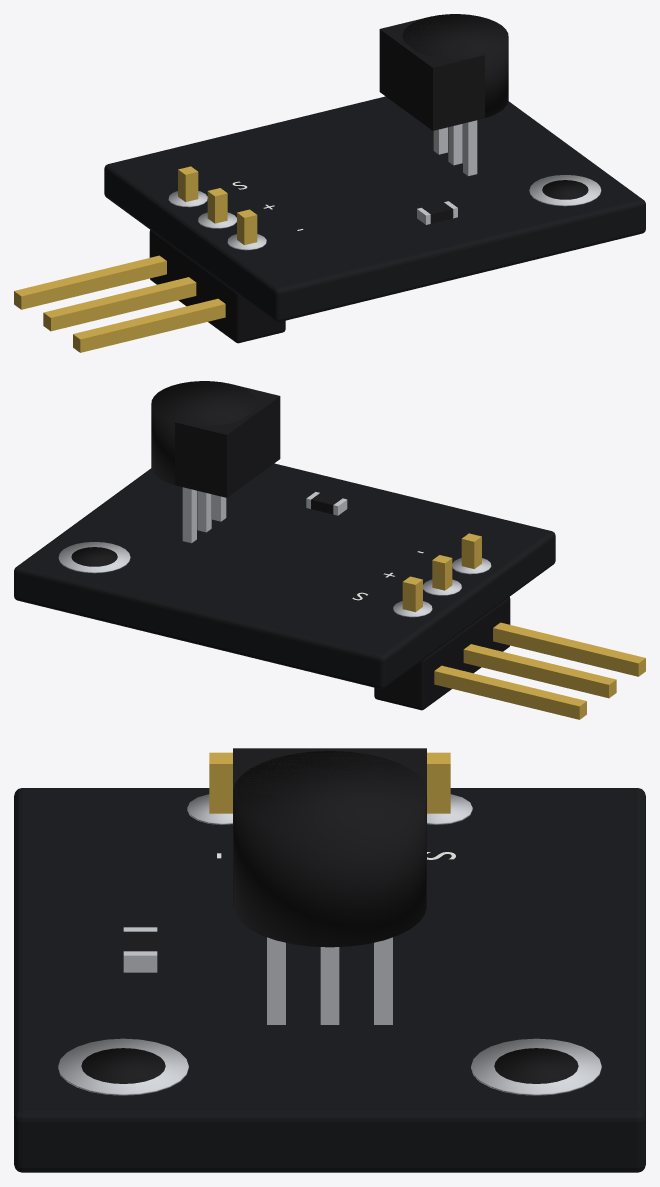
The model's file is analog-hall-sensor.glb.
3 views of the same model, one above another, from view 1: azimuth 30°, elevation 25°; view 2: azimuth 150°, elevation 25°; view 3: azimuth 270°, elevation 25° (orthographic). The views are drawn at different scales.
Parts seen in each view (by area): view 1: pcb.019, to92_flat.002, to92.002, header.019, pin_h.064, pin_h.063, pin_h.065, hole_ring.033, leg.014, hole.033, pin_v.064, pin_v.065 (+2 smaller); view 2: pcb.019, to92_flat.002, to92.002, header.019, pin_h.064, pin_h.063, pin_h.065, hole_ring.032, leg.016, hole.032, pin_v.063, pin_v.064 (+2 smaller); view 3: pcb.019, to92.002, to92_flat.002, hole_ring.032, hole_ring.033, hole.032, hole.033, leg.014, leg.016, leg.015, pin_v.063, pin_v.065 (+4 smaller).
Part boxes in pixels (<box>): pcb.019: <box>104,96,645,321</box>; to92_flat.002: <box>379,16,484,130</box>; to92.002: <box>402,14,508,117</box>; header.019: <box>149,230,285,343</box>; pin_h.064: <box>43,277,196,331</box>; pin_h.063: <box>14,255,166,309</box>; pin_h.065: <box>73,298,225,352</box>; hole_ring.033: <box>529,175,601,206</box>; leg.014: <box>463,120,477,176</box>; hole.033: <box>542,180,588,199</box>; pin_v.064: <box>207,188,227,223</box>; pin_v.065: <box>237,209,257,245</box>; pcb.019: <box>14,463,555,688</box>; to92_flat.002: <box>175,383,280,497</box>; to92.002: <box>151,381,257,484</box>; header.019: <box>374,597,510,710</box>; pin_h.064: <box>463,644,616,698</box>; pin_h.063: <box>434,665,586,719</box>; pin_h.065: <box>493,622,645,676</box>; hole_ring.032: <box>58,542,130,573</box>; leg.016: <box>182,487,196,543</box>; hole.032: <box>71,547,117,566</box>; pin_v.063: <box>402,576,422,612</box>; pin_v.064: <box>432,555,452,590</box>; pcb.019: <box>14,788,645,1172</box>; to92.002: <box>233,751,426,947</box>; to92_flat.002: <box>233,748,426,908</box>; hole_ring.032: <box>471,1038,601,1095</box>; hole_ring.033: <box>58,1038,188,1095</box>; hole.032: <box>494,1048,578,1083</box>; hole.033: <box>81,1048,165,1083</box>; leg.014: <box>267,937,285,1024</box>; leg.016: <box>374,937,392,1024</box>; leg.015: <box>320,947,339,1024</box>; pin_v.063: <box>427,752,450,813</box>; pin_v.065: <box>209,752,232,813</box>.
Bounding box in the file's own units: 0.0256 × 0.0101 × 0.015.
